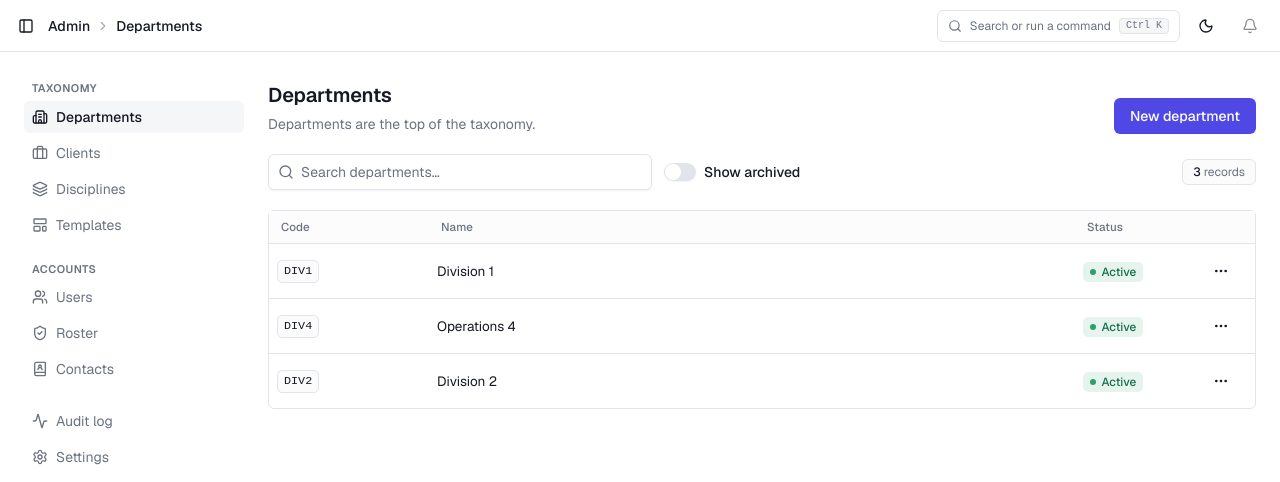
TaxonomyManagePage (departments) › filters rows via the client-side search
Check: the text "DIV1" is shown, box [277,260,319,283]
Check: the text "DIV4" is shown, box [277,315,319,338]
Type "Division" into the field labelled "Search departments…" at (460,172), box [268,154,652,190]
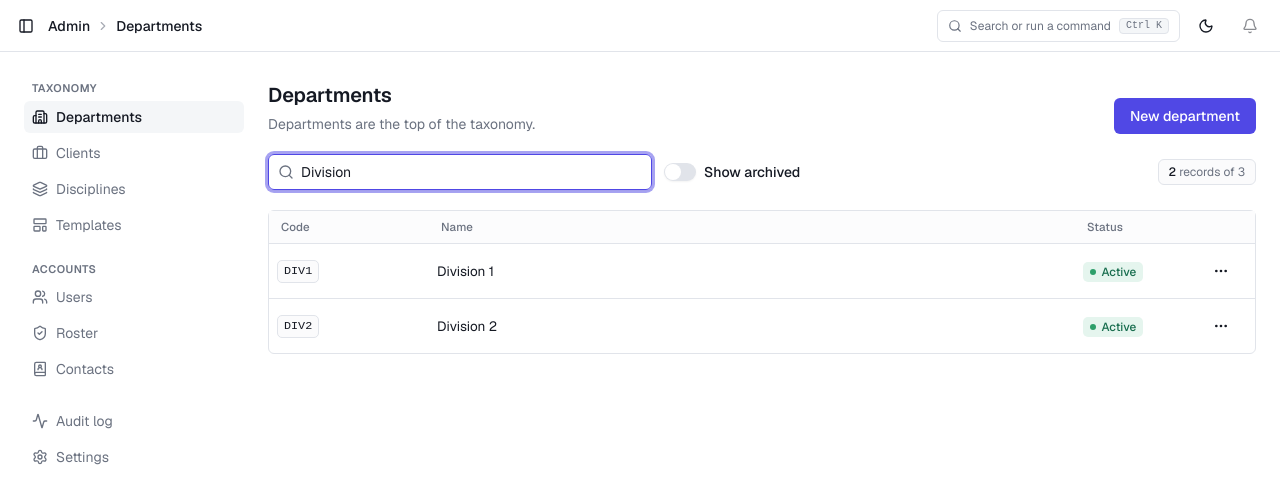
Check: the text "DIV1" is shown, box [277,260,319,283]
Check: the text "DIV4" is gone
